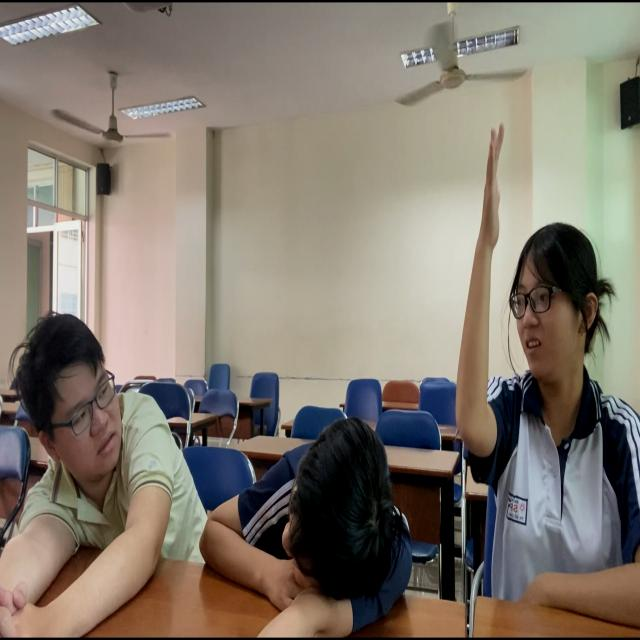raise_hand: (453, 122, 640, 588)
sleep: (200, 415, 408, 640)
